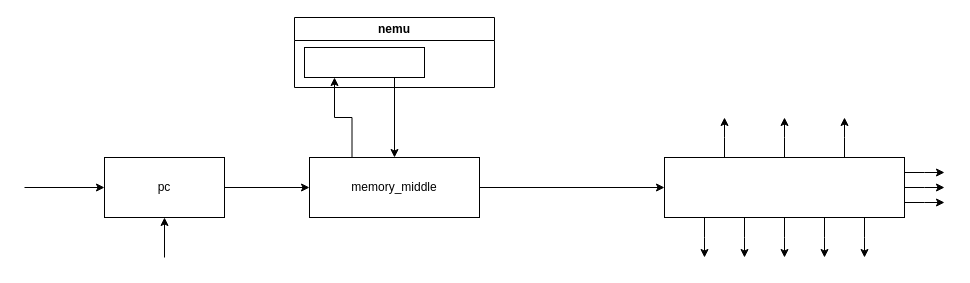
This 970x283 diagram has some shape labels left out. Here are the shapes that lost their labels. From the top down, the centre of each, then its label:
(x=364, y=62): memory
(x=784, y=187): decode
